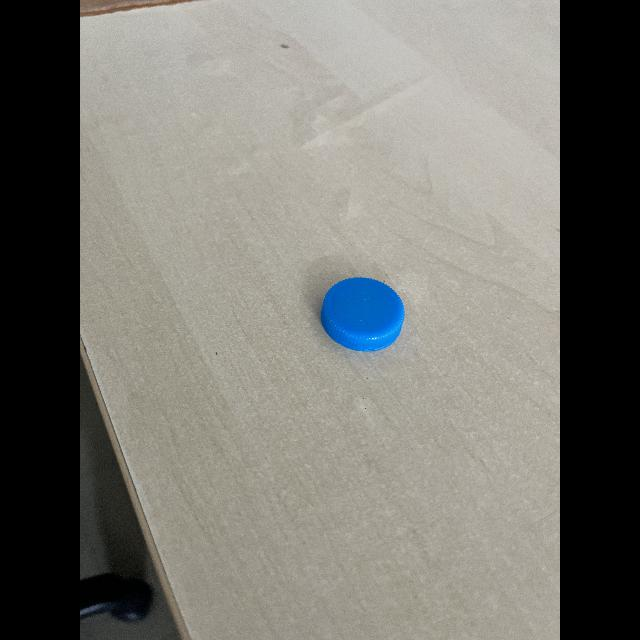plastic_bottle_cap: (312, 267, 412, 351)
